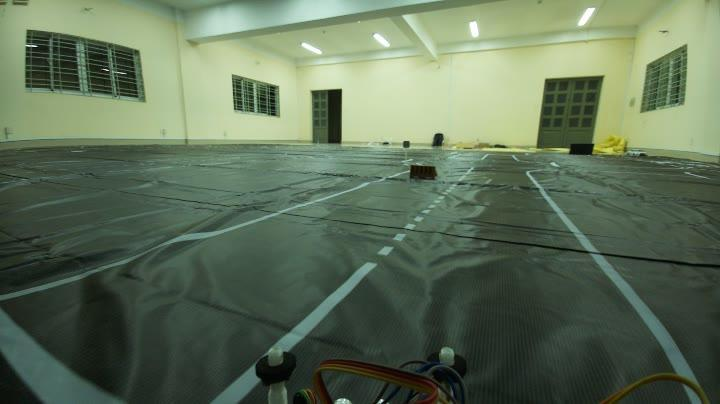roadblock: (406, 162, 442, 186)
